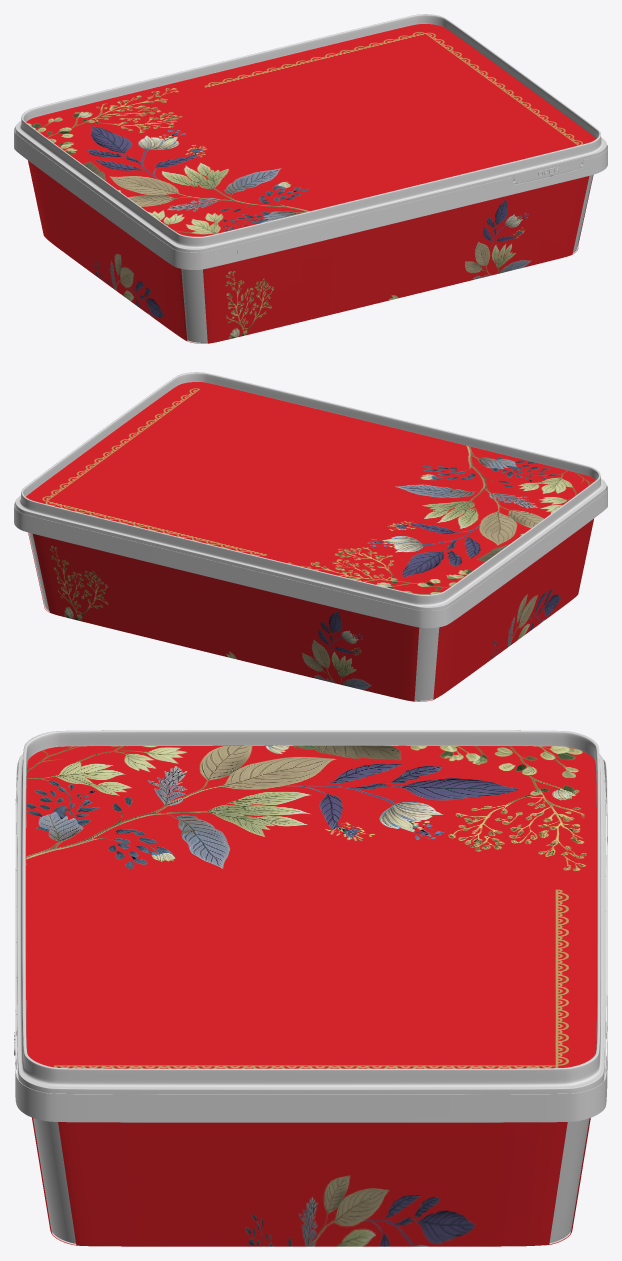
File: 500gms.glb
3 renders of one model, top to bottom at view 1: azimuth 30°, elevation 25°; view 2: azimuth 150°, elevation 25°; view 3: azimuth 270°, elevation 25°, orthographic. The views are drawn at different scales.
Visible parts, largest first — view 1: label lid, label, lID.002, tub, Plane.015; view 2: label lid, label, lID.002, tub; view 3: label lid, label, lID.002, tub.
Part boxes in pixels (bbox=[...]): label lid: bbox=[26, 24, 596, 236]; label: bbox=[28, 160, 593, 343]; lID.002: bbox=[15, 14, 606, 252]; tub: bbox=[14, 126, 607, 342]; Plane.015: bbox=[513, 158, 582, 183]; label lid: bbox=[26, 382, 595, 594]; label: bbox=[28, 519, 593, 701]; lID.002: bbox=[15, 372, 606, 610]; tub: bbox=[14, 485, 607, 700]; label lid: bbox=[26, 745, 596, 1068]; label: bbox=[32, 1117, 590, 1246]; lID.002: bbox=[17, 730, 605, 1094]; tub: bbox=[15, 759, 607, 1243].
Bounding box in the file's own units: 0.1862 × 0.0473 × 0.1343.
8 materials, 4 textured.
